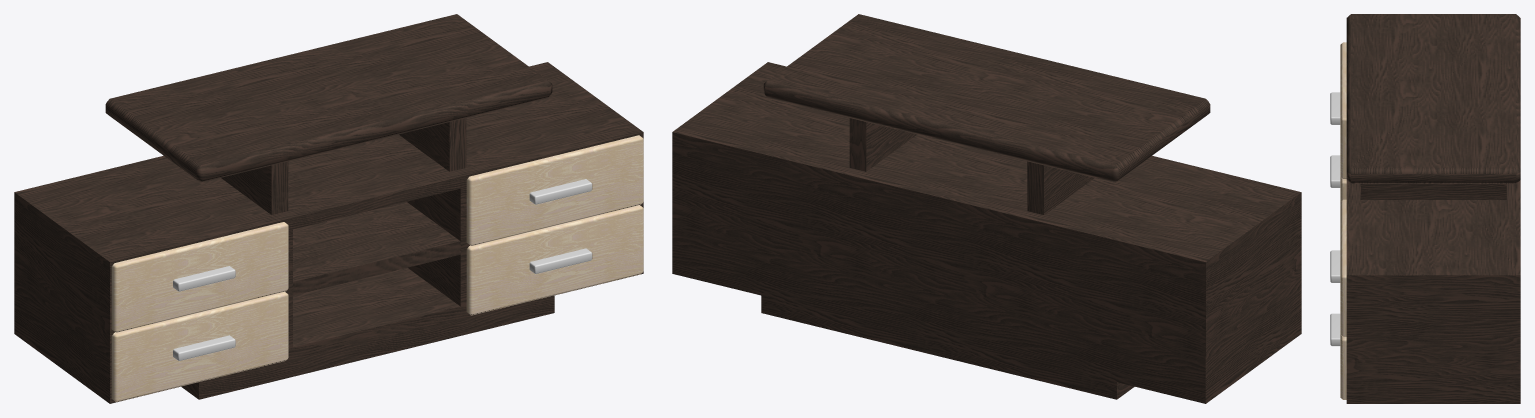
File: dresser_003.fbx
3 renders of one model, left to right at view 1: azimuth 30°, elevation 25°; view 2: azimuth 150°, elevation 25°; view 3: azimuth 270°, elevation 25°, orthographic. The views are drawn at different scales.
Visible parts, largest first — view 1: dresser_003; view 2: dresser_003; view 3: dresser_003.
Boxes of the visible parts, bbox=[...] form: dresser_003: bbox=[14, 14, 643, 403]; dresser_003: bbox=[672, 14, 1301, 403]; dresser_003: bbox=[1330, 14, 1520, 403].
Bounding box in the file's own units: 227 × 77.21 × 94.34.
